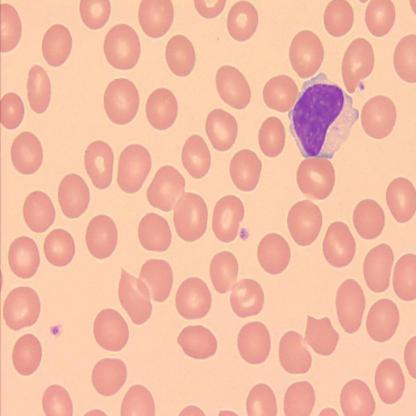Atypical lymphocyte: (288, 74, 359, 162)
